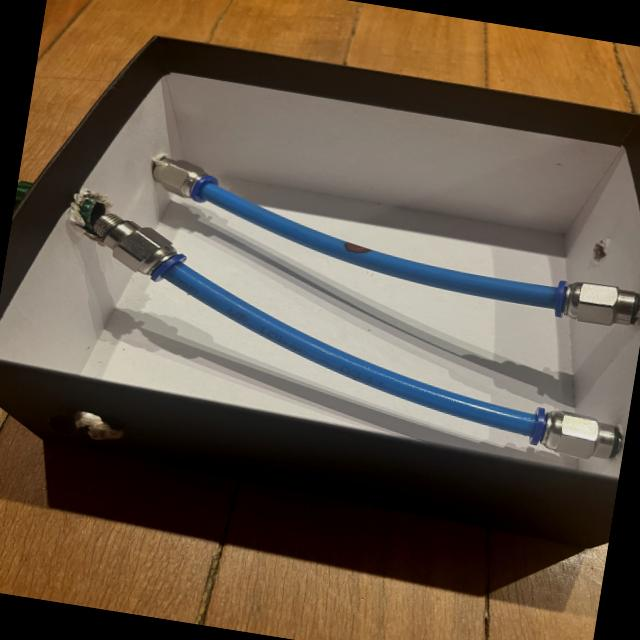hose_damage: (342, 239, 374, 257)
